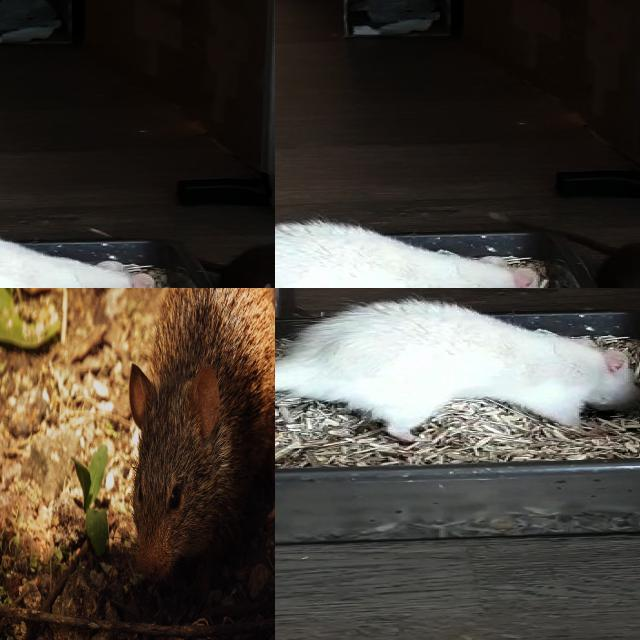rat: (277, 302, 640, 451), (127, 288, 275, 583), (275, 223, 546, 288)
